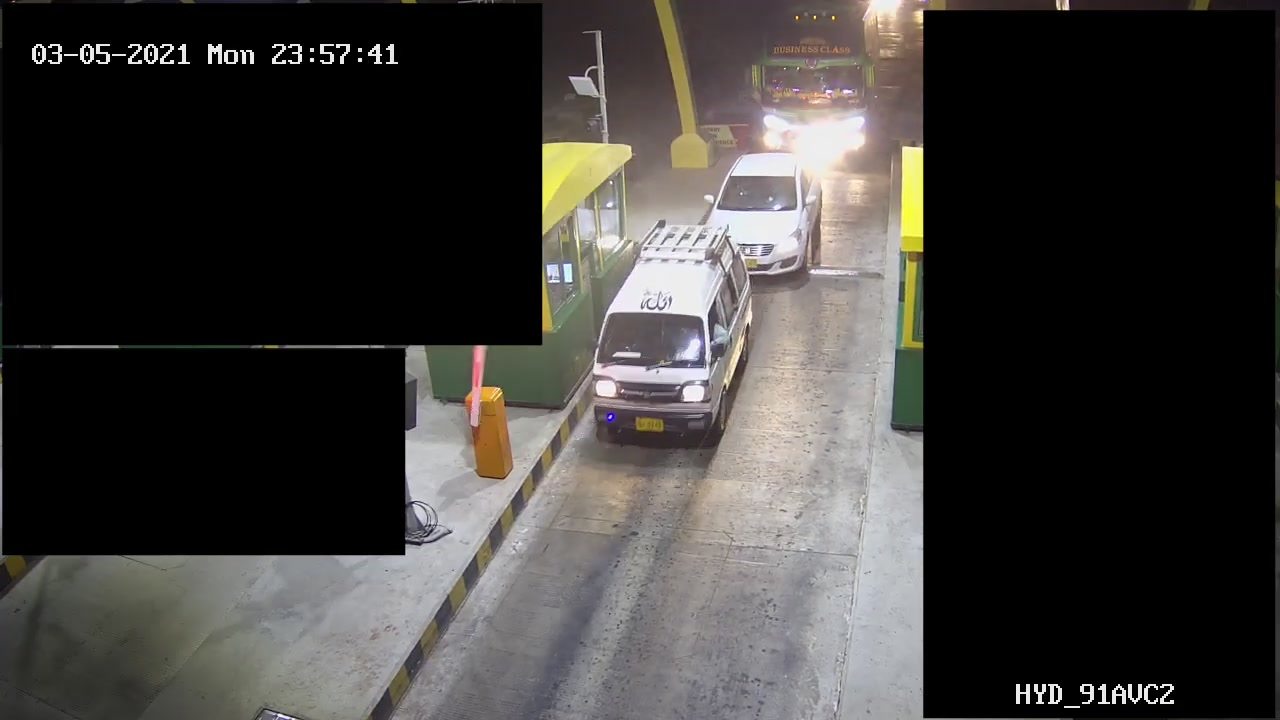F1: (585, 217, 752, 450), (678, 149, 835, 279)
